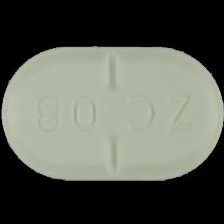49349-512: (0, 0, 224, 224)
